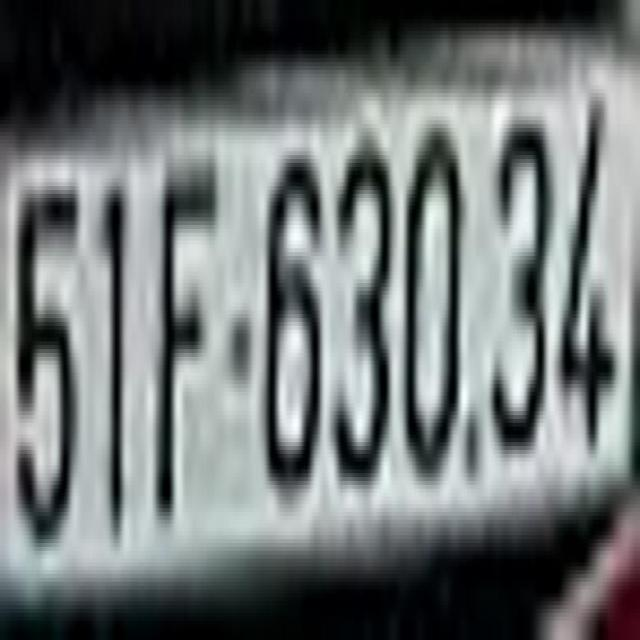0: (403, 109, 463, 478)
1: (94, 155, 136, 547)
3: (330, 124, 394, 489), (490, 89, 552, 458)
4: (557, 70, 620, 450)
5: (10, 167, 83, 547)
6: (262, 112, 324, 496)
F: (156, 120, 217, 516)
